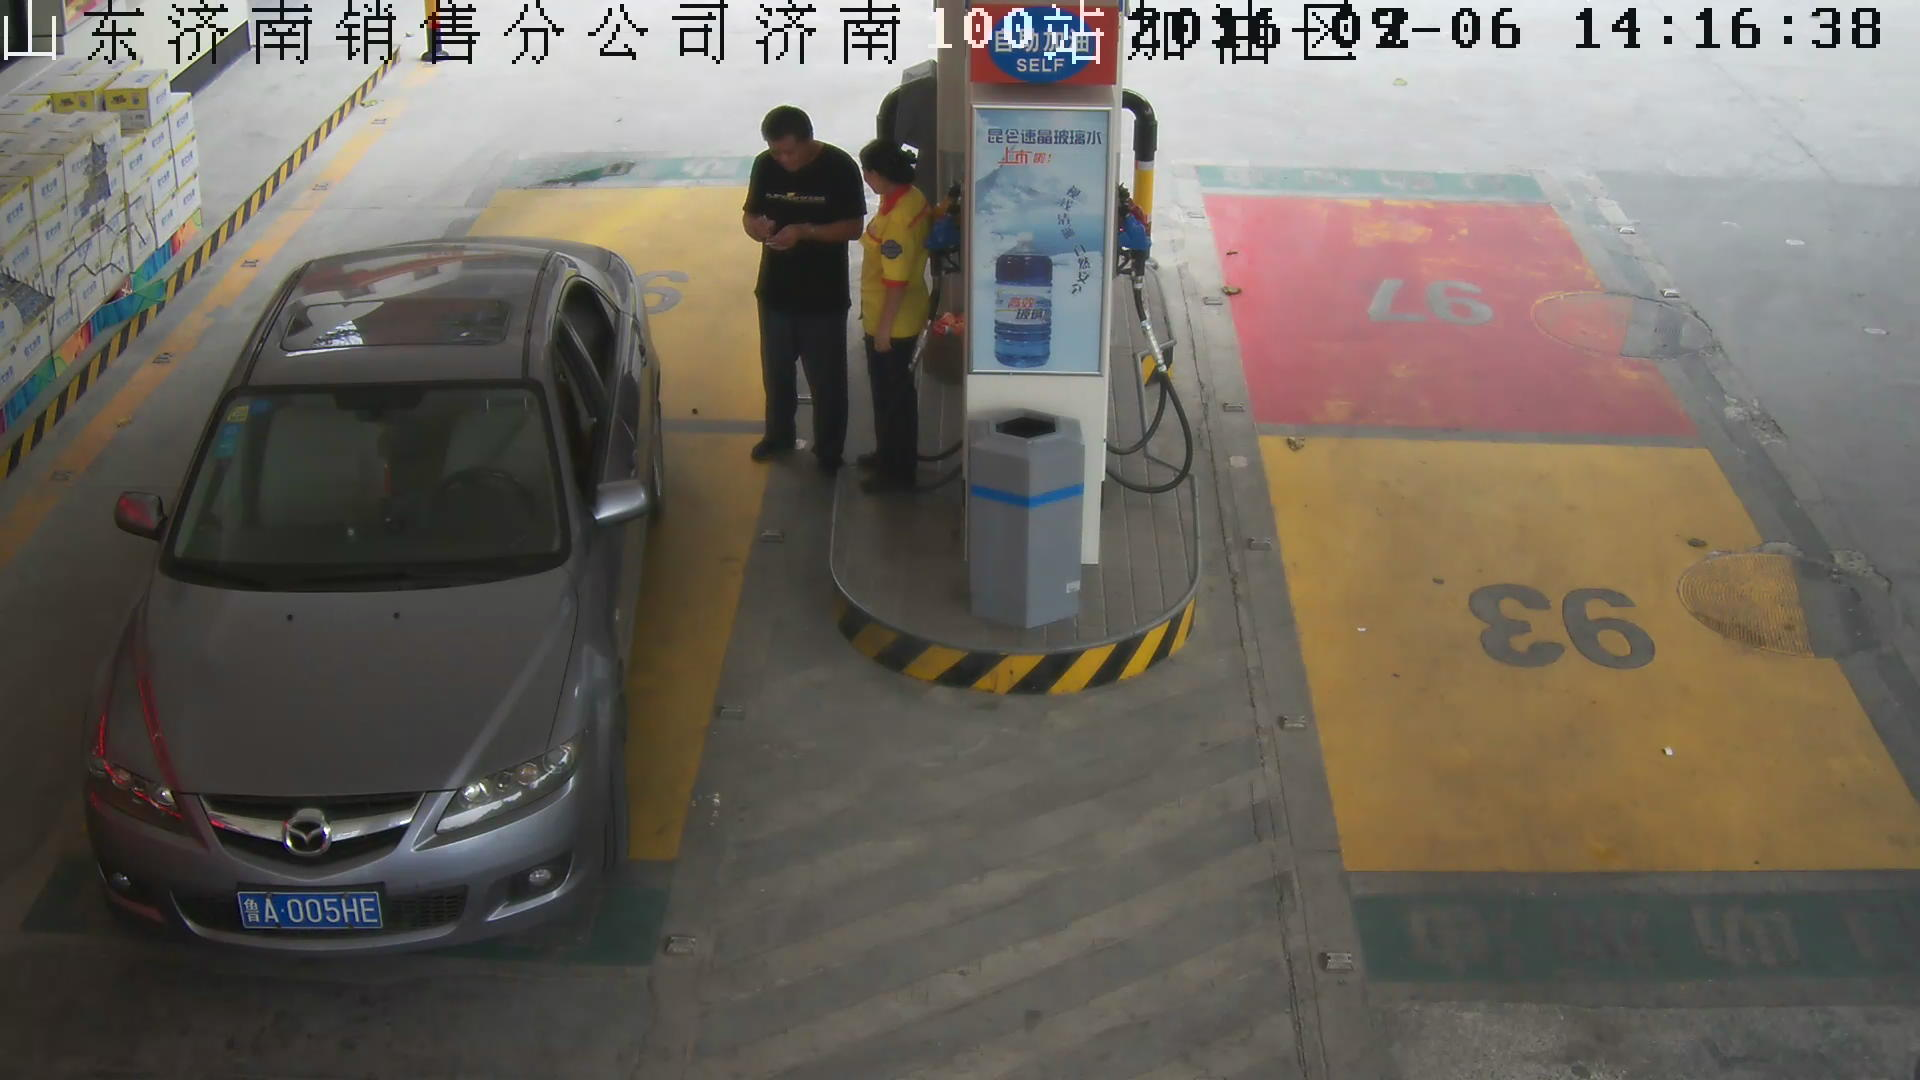blue: (237, 891, 384, 935)
